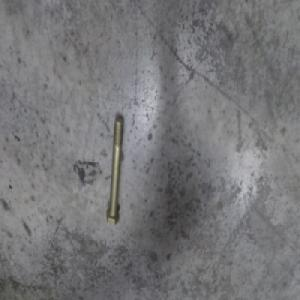Bolt: (106, 117, 126, 231)
